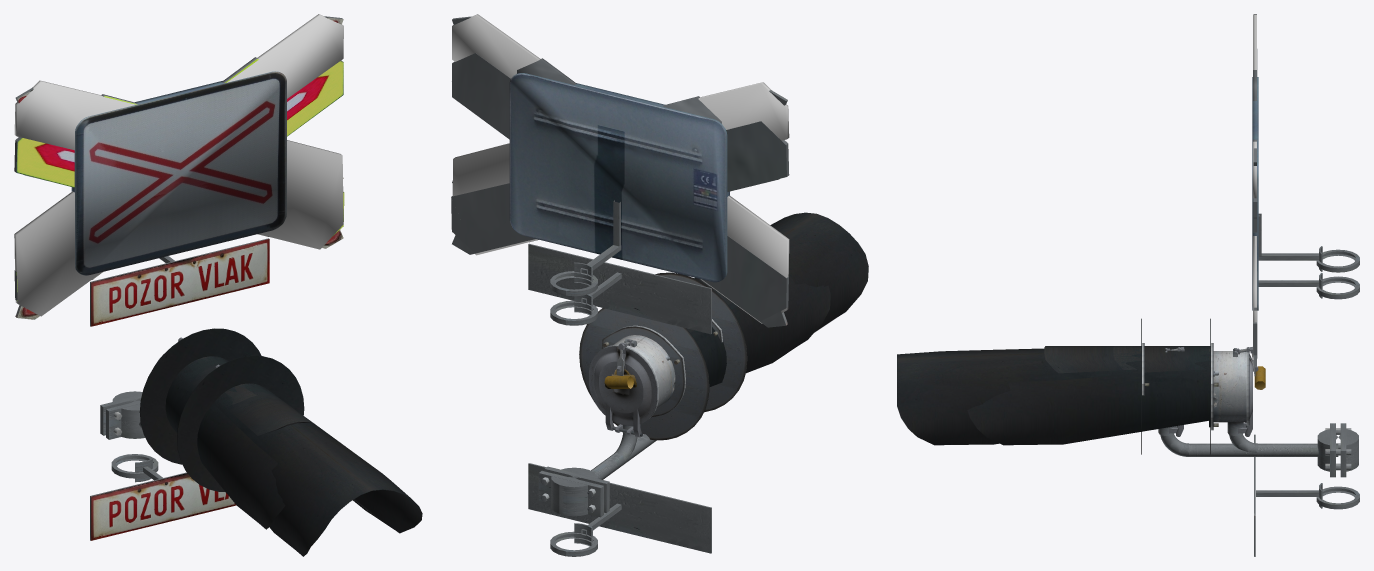
File: sssr_vyst_single_head.obj
3 renders of one model, left to right at view 1: azimuth 30°, elevation 25°; view 2: azimuth 150°, elevation 25°; view 3: azimuth 270°, elevation 25°, orthographic. The views are drawn at different scales.
Visible parts, largest first — view 1: kriz_sk, kriz_xk_refl_velky, svetlo_stinidlo_long_50, pozor_vlak_up_front, svetlo_stinidlo_long_30, pozor_vlak_dn_front, svetlo_base_50, svetlo_base_30, kriz_1k_refl_velky, svetlo_stinidlo_short_50, svetlo_ram_30, pozor_vlak_dn_ram (+1 smaller); view 2: kriz_sk, kriz_1k_refl_velky, kriz_xk_refl_velky, pozor_vlak_up_back, svetlo_base_back_30, svetlo_stinidlo_long_50, pozor_vlak_dn_back, svetlo_stinidlo_long_30, svetlo_back_30, svetlo_ram_30, svetlo_base_back_50, svetlo_back2_30 (+6 smaller); view 3: svetlo_stinidlo_long_30, svetlo_stinidlo_long_50, svetlo_back2_30, svetlo_ram_30, svetlo_stinidlo_short_50, svetlo_stinidlo_short_30, svetlo_ram_50, kriz_ram, pozor_vlak_dn_ram, pozor_vlak_up_ram, kriz_sk, kriz_xk_refl_velky (+1 smaller).
Part boxes in pixels (left/top/right/bottom): kriz_sk: left=71, top=71, right=286, bottom=275; kriz_xk_refl_velky: left=14, top=14, right=343, bottom=316; svetlo_stinidlo_long_50: left=214, top=383, right=422, bottom=556; pozor_vlak_up_front: left=91, top=239, right=269, bottom=326; svetlo_stinidlo_long_30: left=165, top=356, right=285, bottom=529; pozor_vlak_dn_front: left=91, top=473, right=236, bottom=540; svetlo_base_50: left=177, top=355, right=304, bottom=492; svetlo_base_30: left=139, top=328, right=261, bottom=464; kriz_1k_refl_velky: left=14, top=60, right=344, bottom=300; svetlo_stinidlo_short_50: left=218, top=383, right=311, bottom=435; svetlo_ram_30: left=100, top=391, right=144, bottom=439; pozor_vlak_dn_ram: left=111, top=454, right=162, bottom=482; kriz_sk: left=509, top=73, right=729, bottom=282; kriz_1k_refl_velky: left=451, top=53, right=789, bottom=320; kriz_xk_refl_velky: left=452, top=14, right=789, bottom=323; pozor_vlak_up_back: left=528, top=243, right=711, bottom=334; svetlo_base_back_30: left=579, top=308, right=709, bottom=440; svetlo_stinidlo_long_50: left=728, top=212, right=868, bottom=332; pozor_vlak_dn_back: left=528, top=463, right=711, bottom=553; svetlo_stinidlo_long_30: left=690, top=276, right=830, bottom=386; svetlo_back_30: left=589, top=339, right=656, bottom=437; svetlo_ram_30: left=538, top=433, right=637, bottom=517; svetlo_base_back_50: left=655, top=273, right=747, bottom=412; svetlo_back2_30: left=602, top=325, right=685, bottom=436; svetlo_stinidlo_long_30: left=967, top=346, right=1210, bottom=445; svetlo_stinidlo_long_50: left=897, top=346, right=1141, bottom=445; svetlo_back2_30: left=1211, top=343, right=1255, bottom=436; svetlo_ram_30: left=1229, top=423, right=1358, bottom=477; svetlo_stinidlo_short_50: left=1044, top=346, right=1140, bottom=373; svetlo_stinidlo_short_30: left=1113, top=346, right=1210, bottom=372; svetlo_ram_50: left=1160, top=434, right=1337, bottom=456; kriz_ram: left=1258, top=213, right=1359, bottom=272; pozor_vlak_dn_ram: left=1256, top=483, right=1359, bottom=509; pozor_vlak_up_ram: left=1258, top=273, right=1359, bottom=299; kriz_sk: left=1252, top=77, right=1258, bottom=310; kriz_xk_refl_velky: left=1253, top=14, right=1256, bottom=359.
Size of the model in its own units: 0.6555 by 0.9004 by 0.8607.
